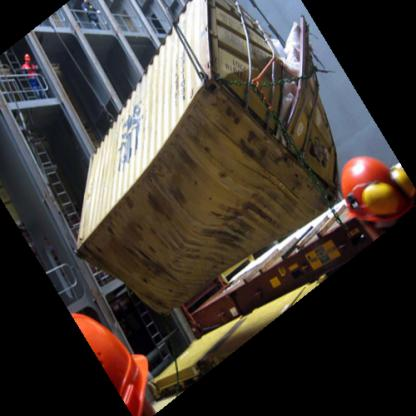Damage: (202, 160, 319, 261), (272, 9, 320, 122)
